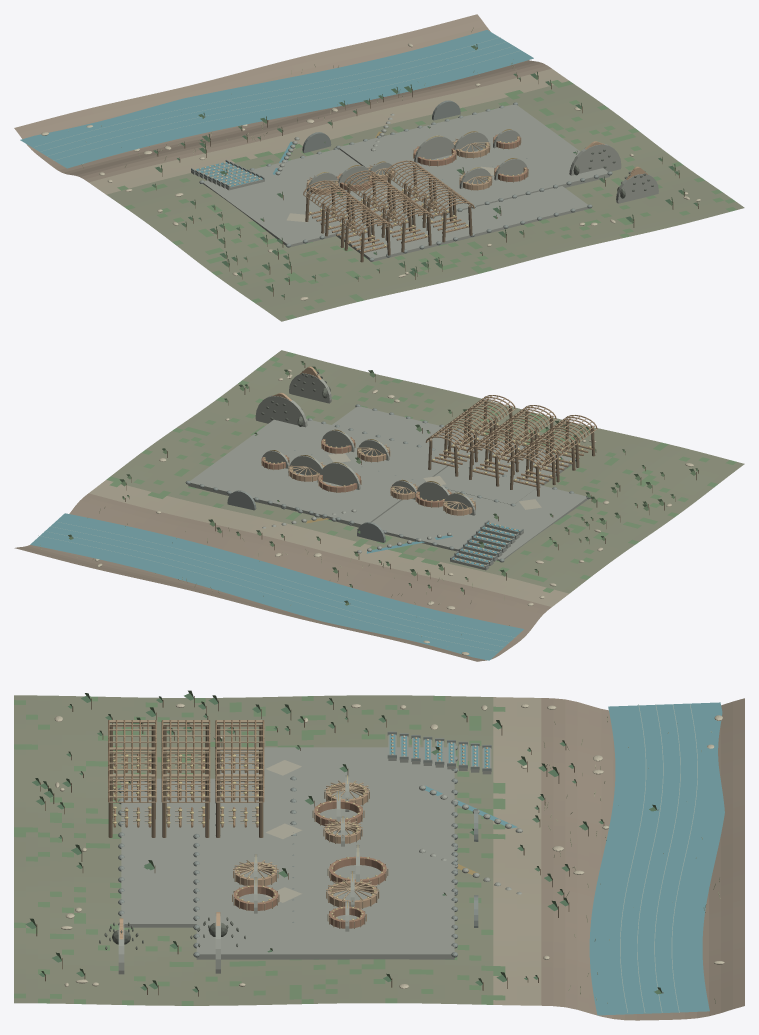
The model's file is ALC_M4_HARVEST_PRECINCT_v001.glb.
The picture shows the model from 3 angles, top to bottom: view 1: azimuth 30°, elevation 25°; view 2: azimuth 150°, elevation 25°; view 3: azimuth 270°, elevation 25°; orthographic projection. The views are drawn at different scales.
Parts seen in each view (by area): view 1: earth, stone, water, bank, sand, moss, wood, roots, fiber, wetstone, water_highlight, green (+4 smaller); view 2: earth, stone, water, bank, sand, moss, wood, roots, fiber, wetstone, water_highlight, clay (+3 smaller); view 3: earth, stone, water, bank, sand, moss, fiber, wood, roots, terracotta, wetstone, green (+6 smaller).
Part boxes in pixels (x1=…): earth: x1=106, y1=84, x2=744, y2=321; stone: x1=191, y1=104, x2=658, y2=261; water: x1=20, y1=30, x2=533, y2=186; bank: x1=14, y1=14, x2=551, y2=182; sand: x1=89, y1=68, x2=569, y2=194; moss: x1=117, y1=44, x2=736, y2=319; wood: x1=303, y1=160, x2=474, y2=253; roots: x1=156, y1=48, x2=698, y2=299; fiber: x1=303, y1=134, x2=528, y2=252; wetstone: x1=191, y1=100, x2=612, y2=261; water_highlight: x1=34, y1=37, x2=518, y2=160; green: x1=152, y1=45, x2=696, y2=296; earth: x1=111, y1=350, x2=744, y2=593; stone: x1=188, y1=373, x2=587, y2=570; water: x1=30, y1=513, x2=523, y2=660; bank: x1=14, y1=493, x2=551, y2=661; sand: x1=89, y1=480, x2=568, y2=606; moss: x1=68, y1=352, x2=736, y2=605; wood: x1=425, y1=395, x2=597, y2=487; roots: x1=73, y1=363, x2=698, y2=603; fiber: x1=261, y1=395, x2=597, y2=515; wetstone: x1=185, y1=404, x2=590, y2=568; water_highlight: x1=38, y1=522, x2=514, y2=651; clay: x1=271, y1=366, x2=475, y2=515; earth: x1=14, y1=695, x2=493, y2=1005; stone: x1=118, y1=734, x2=522, y2=974; water: x1=389, y1=702, x2=724, y2=1015; bank: x1=541, y1=698, x2=744, y2=1020; sand: x1=493, y1=697, x2=541, y2=1005; moss: x1=14, y1=690, x2=662, y2=1005; fiber: x1=108, y1=720, x2=388, y2=928; wood: x1=108, y1=720, x2=264, y2=827; roots: x1=36, y1=696, x2=663, y2=996; terracotta: x1=233, y1=800, x2=386, y2=928; wetstone: x1=118, y1=731, x2=491, y2=957; green: x1=25, y1=693, x2=661, y2=994.
Bounding box in the file's own units: 68.9 × 9.42 × 68.
